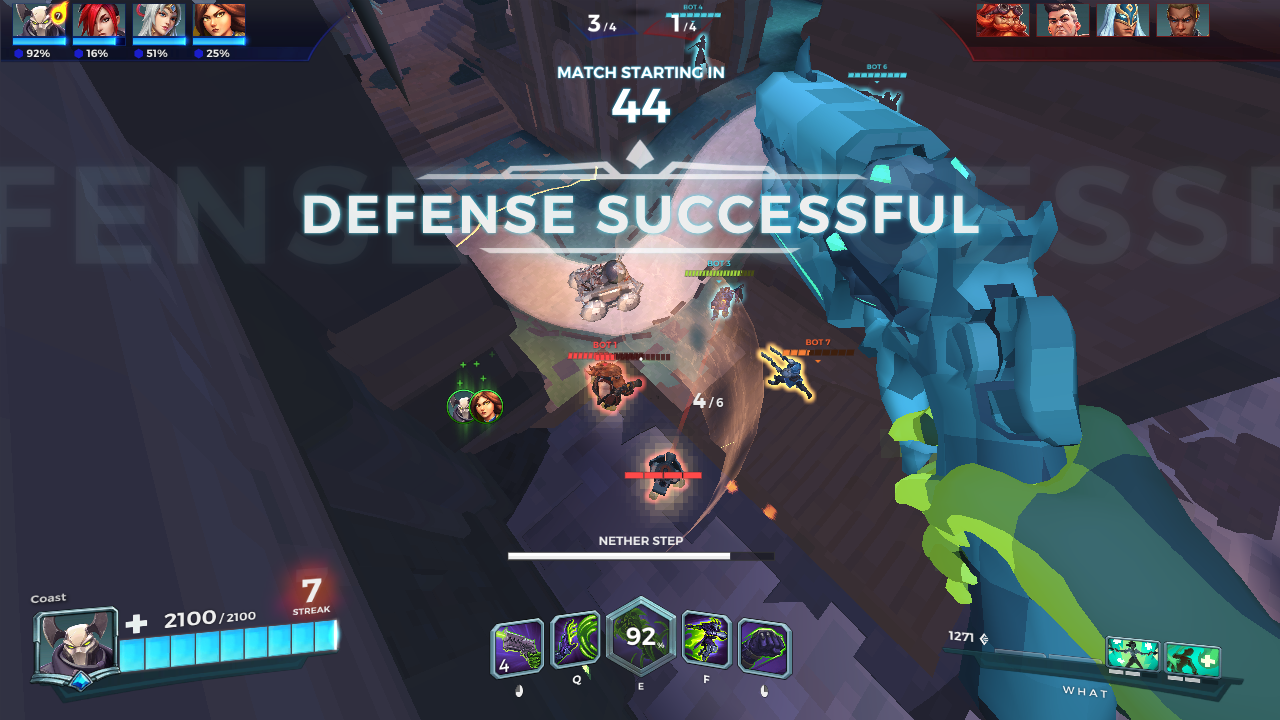model: (765, 351, 823, 409), (581, 362, 643, 416), (645, 446, 688, 507)
